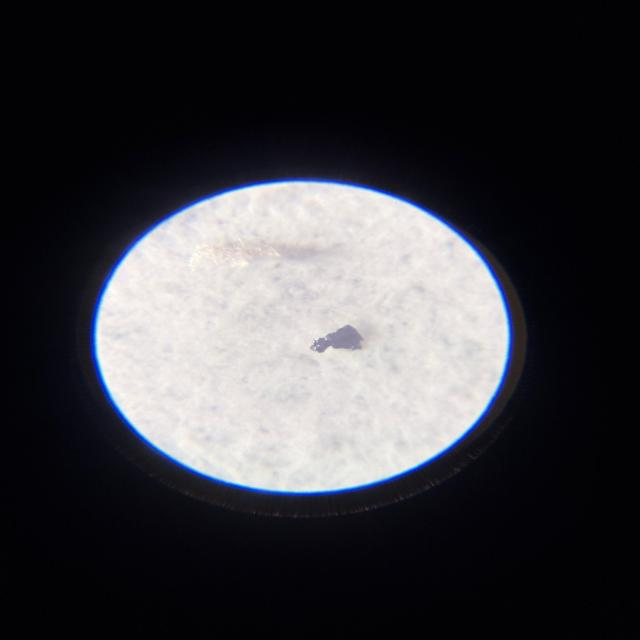microplastic_type_0: (310, 325, 363, 353)
